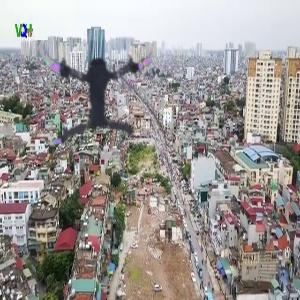drone: (30, 15, 165, 150)
